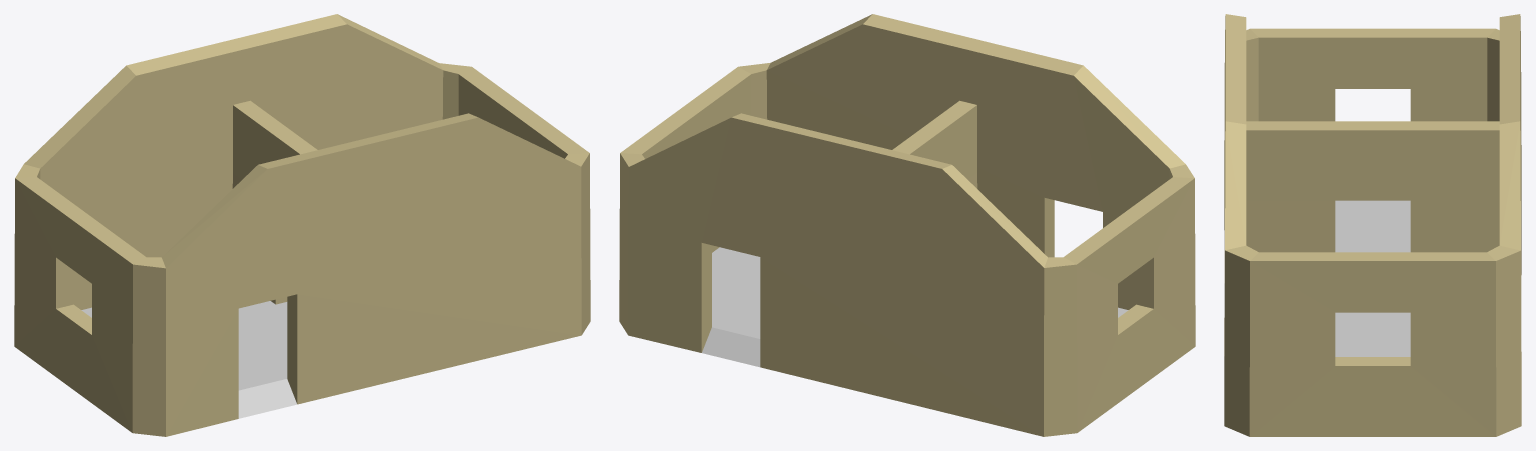
File: 6x12house.fbx
3 renders of one model, left to right at view 1: azimuth 30°, elevation 25°; view 2: azimuth 150°, elevation 25°; view 3: azimuth 270°, elevation 25°, orthographic. The views are drawn at different scales.
Parts seen in each view (by area): view 1: Plane.052; view 2: Plane.052; view 3: Plane.052.
Boxes of the visible parts, bbox=[...] form: Plane.052: bbox=[14, 14, 590, 436]; Plane.052: bbox=[619, 14, 1195, 436]; Plane.052: bbox=[1224, 14, 1521, 436].
Bounding box in the file's own units: 1304 × 659 × 704.
